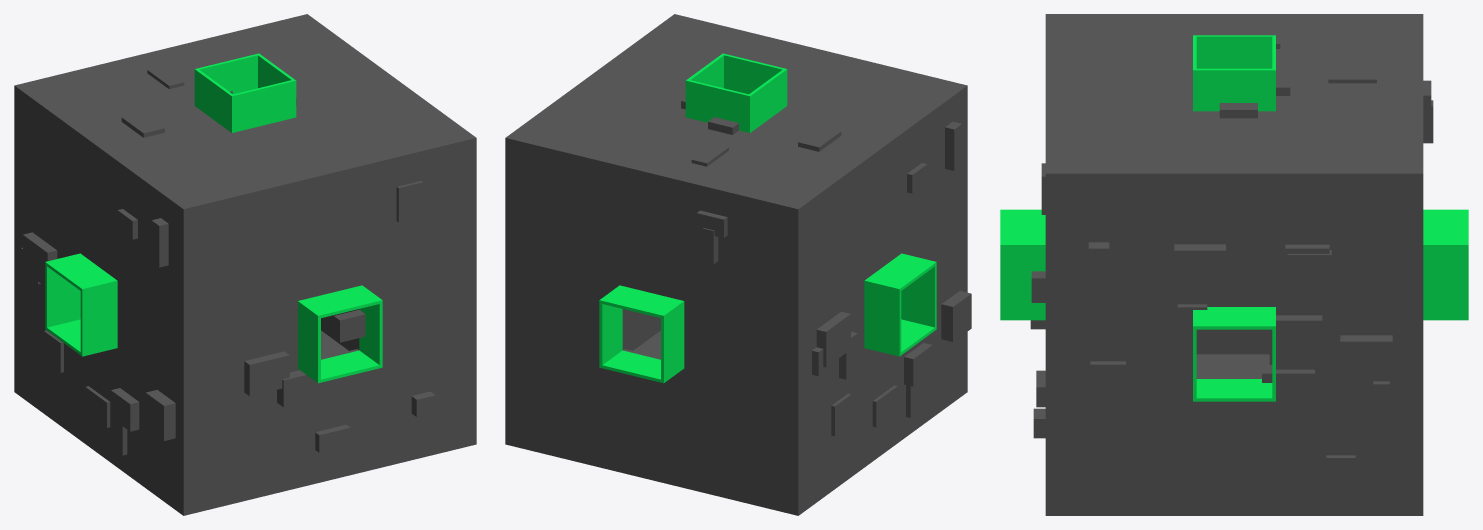
The picture shows the model from 3 angles, left to right: view 1: azimuth 30°, elevation 25°; view 2: azimuth 150°, elevation 25°; view 3: azimuth 270°, elevation 25°; orthographic projection. The views are drawn at different scales.
Visible parts, largest first — view 1: Main_Chamber; view 2: Main_Chamber; view 3: Main_Chamber.
Boxes of the visible parts, box(x1,y1,x2,y2) form: Main_Chamber: box(14, 14, 476, 515); Main_Chamber: box(505, 14, 971, 515); Main_Chamber: box(1000, 14, 1468, 515).
Bounding box in the file's own units: 12.4 × 12.4 × 12.4.
